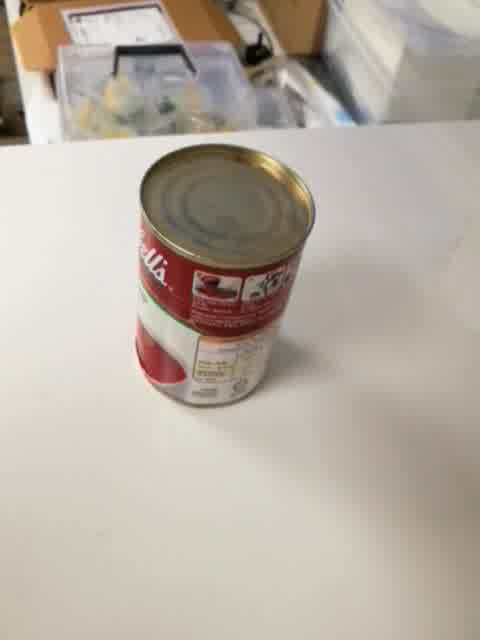tomatosoup: (133, 142, 320, 410)
